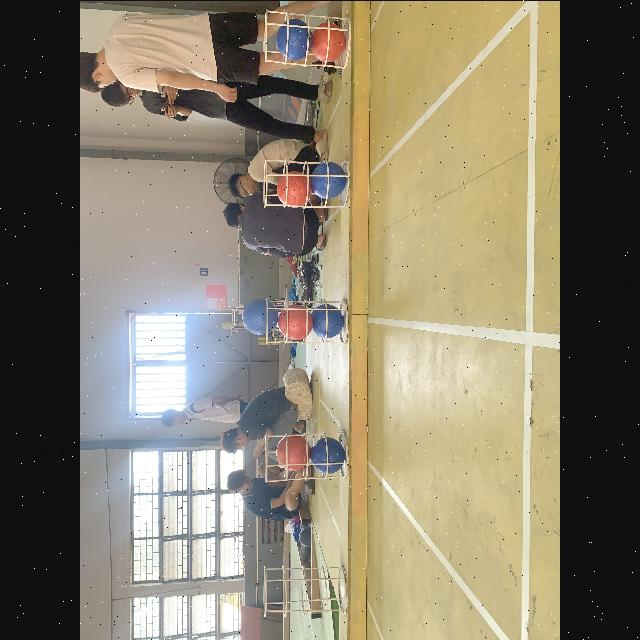B: (276, 19, 312, 59), (312, 22, 346, 62), (310, 437, 346, 473), (312, 162, 346, 198), (244, 298, 278, 334), (311, 302, 344, 338)
R: (276, 171, 312, 207), (278, 304, 312, 340), (276, 434, 310, 470)
